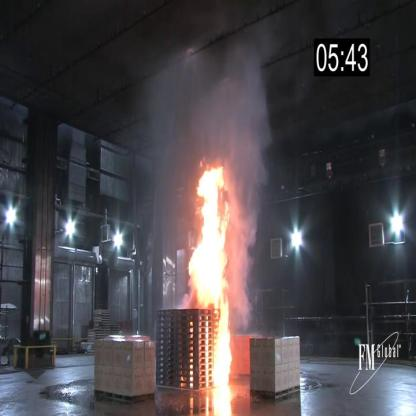fire: (184, 152, 235, 393)
